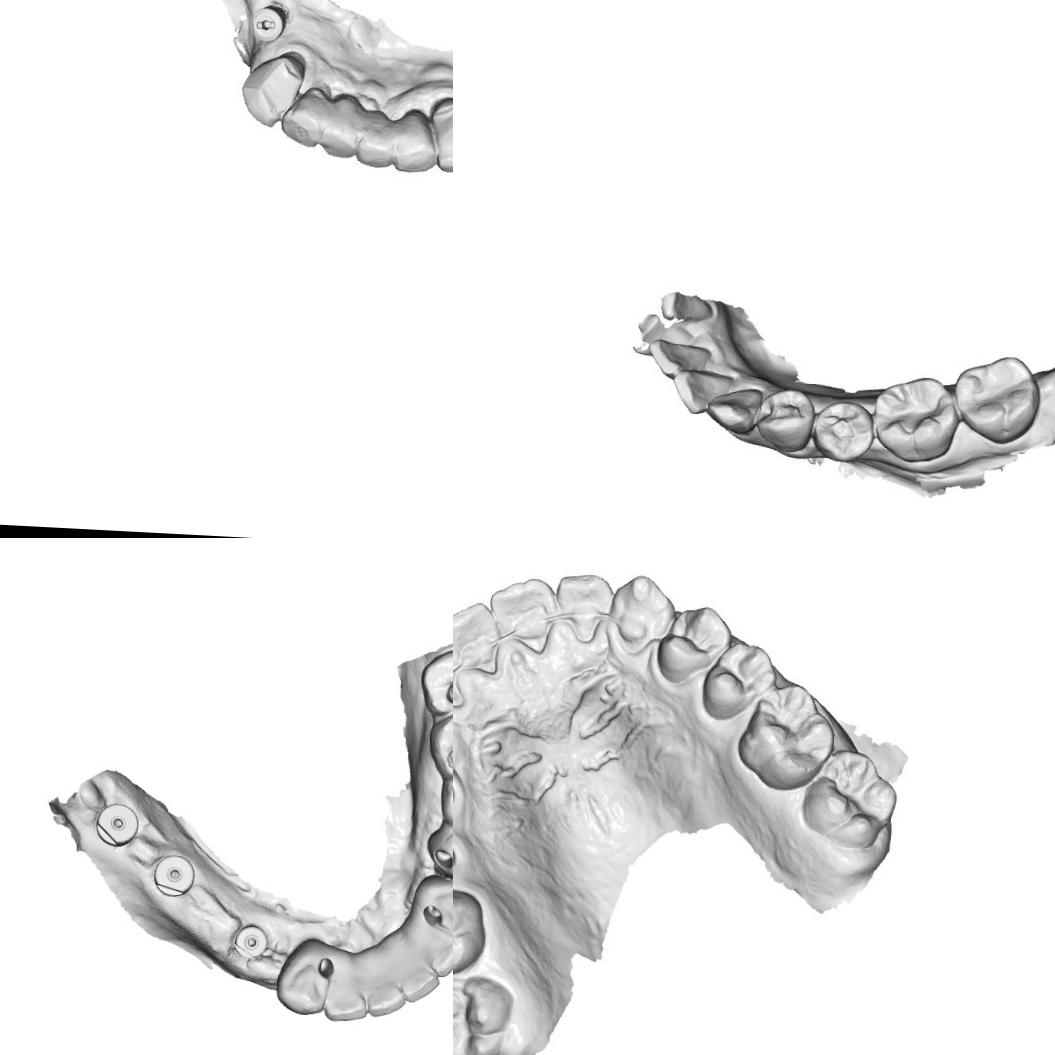canine: (608, 572, 677, 657), (239, 47, 308, 126), (272, 931, 332, 1017), (404, 869, 453, 938), (708, 384, 767, 438), (427, 90, 453, 177)
implant: (92, 795, 142, 857), (149, 845, 200, 900), (223, 920, 277, 964)
implant_minus: (244, 0, 296, 47)
incisor: (486, 574, 557, 650), (552, 571, 615, 642), (672, 363, 738, 422), (453, 598, 502, 677), (322, 948, 371, 1025), (391, 940, 443, 1004), (363, 947, 408, 1018), (405, 917, 453, 978), (650, 334, 712, 380), (356, 106, 402, 164), (394, 108, 435, 172), (286, 83, 324, 142), (322, 94, 362, 150)
molar: (734, 680, 837, 793), (799, 746, 899, 851), (870, 374, 958, 464), (952, 351, 1038, 436), (453, 971, 516, 1055), (453, 881, 488, 976), (417, 646, 453, 716), (425, 705, 453, 783)
premolar: (654, 603, 734, 686), (700, 640, 778, 722), (810, 398, 876, 462), (760, 386, 818, 452), (422, 824, 453, 888), (437, 778, 453, 831)
